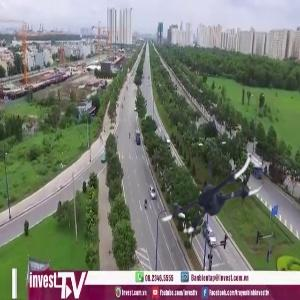drone: (156, 136, 265, 245)
